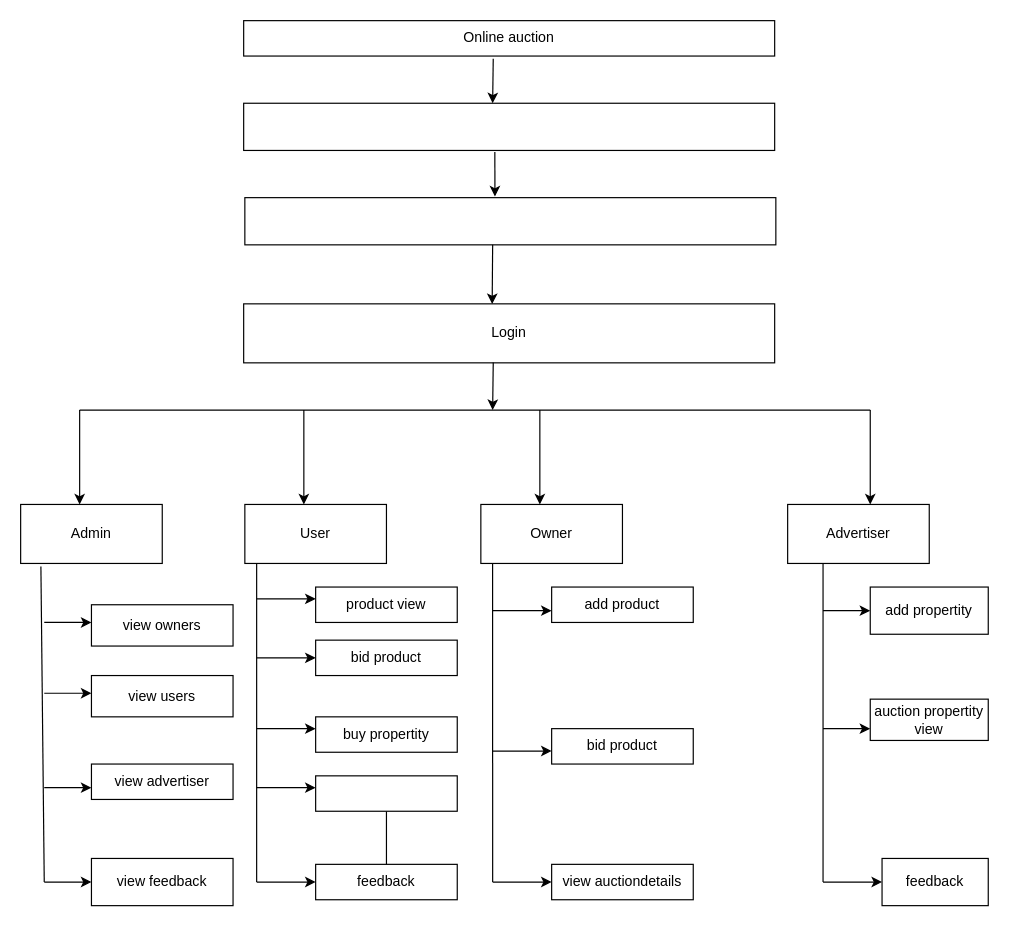
The diagram is 1009 pixels wide and 926 high, and some of its shapes have lost their labels. The shapes that lost their labels are listed below. From the top down, each one's box as (x1, y1, x2, y2) in pixels, then its label:
(242, 102, 775, 150): Home
(244, 196, 776, 245): Register
(314, 775, 457, 811): complain
